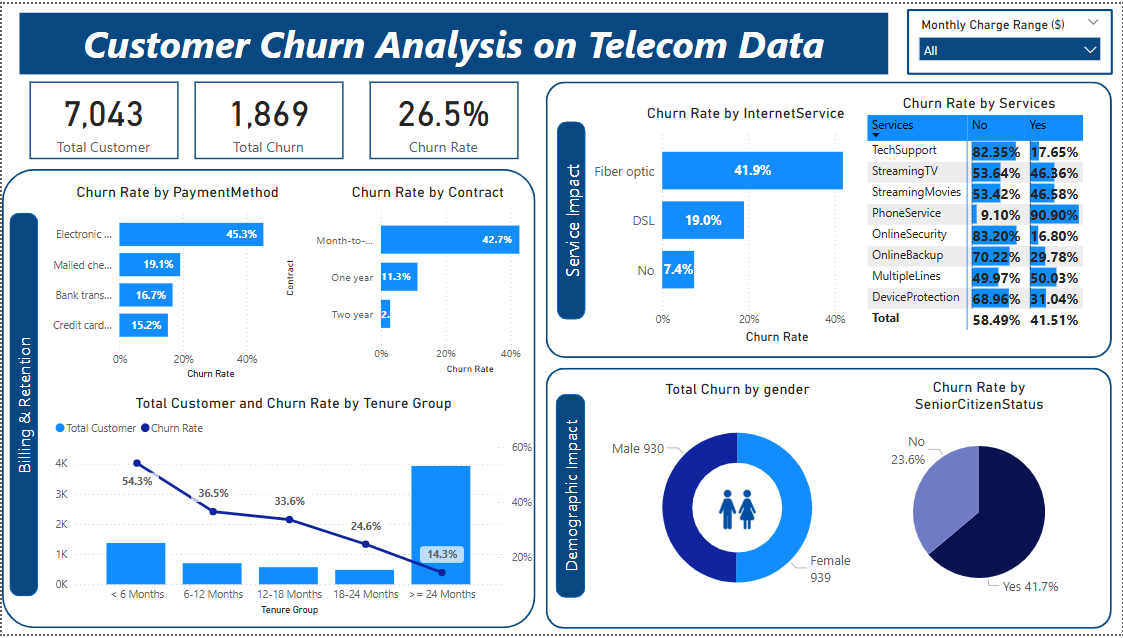

The dashboard page shown, as its layout file describes it:
{"tool":"powerbi","page":{"name":"Page 1","canvas":[1280,720],"ordinal":0},"visuals":[{"type":"shape","box":[621.2,88.8,647.5,316.2],"z":0},{"type":"shape","box":[0,188.8,610,525],"z":1000},{"type":"shape","box":[621.2,415,647.5,298.8],"z":2000},{"type":"card","fields":{"Values":["Tbl_Measure.Total Customer"]},"box":[31.2,88.8,170,88.8],"z":3000},{"type":"clusteredBarChart","fields":{"Category":["Churn data.PaymentMethod"],"Y":["Tbl_Measure.Churn Rate"]},"box":[41.2,203.8,318.8,230],"z":4000},{"type":"clusteredBarChart","fields":{"Y":["Tbl_Measure.Churn Rate"],"Category":["Churn data.Contract"]},"box":[318.8,203.8,336.2,223.8],"z":5000},{"type":"lineStackedColumnComboChart","fields":{"Y":["Tbl_Measure.Total Customer"],"Category":["Tenure_mapping.Tenure Group"],"Y2":["Tbl_Measure.Churn Rate"]},"box":[55,445,555,257.5],"z":6000},{"type":"pivotTable","title":"Churn Rate by Services","fields":{"Rows":["Service.Services"],"Columns":["Service.Status"],"Values":["Sum(Service.Churn Satus)"]},"box":[983.8,102.5,265,312.5],"z":7000},{"type":"clusteredBarChart","fields":{"Category":["Churn data.InternetService"],"Y":["Tbl_Measure.Churn Rate"]},"box":[666.2,113.8,368.8,278.8],"z":8000},{"type":"slicer","fields":{"Values":["Churn data.MonthlyChargeStatus"]},"box":[1033.8,5,235,75],"z":9000},{"type":"textbox","box":[20,10,992.5,70],"z":10000},{"type":"pieChart","fields":{"Category":["Churn data.SeniorCitizenStatus"],"Y":["Tbl_Measure.Churn Rate"]},"box":[983.8,427.5,265,268.8],"z":11000},{"type":"donutChart","fields":{"Category":["Churn data.gender"],"Y":["Tbl_Measure.Total Churn"]},"box":[685,430,312.5,272.5],"z":12000},{"type":"image","box":[810,548.8,61.2,58.8],"z":13000},{"type":"shape","box":[632.5,445,33.8,232.5],"z":14000},{"type":"shape","box":[8.8,238.8,32.5,438.8],"z":15000},{"type":"shape","box":[633.8,133.8,32.5,226.2],"z":16000},{"type":"card","fields":{"Values":["Tbl_Measure.Total Churn"]},"box":[220,88.8,170,88.8],"z":17000},{"type":"card","fields":{"Values":["Tbl_Measure.Churn Rate"]},"box":[420,88.8,170,88.8],"z":18000}]}

Visuals, with their boxes in screenshot pixels (x1, y1, x2, y2), scaled from the page's 1280x720 canvas onto the 1123x638 screenshot:
shape: (545, 79, 1113, 359)
shape: (0, 167, 535, 633)
shape: (545, 368, 1113, 633)
card - Tbl_Measure.Total Customer: (27, 79, 177, 157)
clusteredBarChart - Churn data.PaymentMethod x Tbl_Measure.Churn Rate: (36, 181, 316, 384)
clusteredBarChart - Tbl_Measure.Churn Rate x Churn data.Contract: (280, 181, 575, 379)
lineStackedColumnComboChart - Tbl_Measure.Total Customer x Tenure_mapping.Tenure Group: (48, 394, 535, 622)
"Churn Rate by Services" pivotTable: (863, 91, 1096, 368)
clusteredBarChart - Churn data.InternetService x Tbl_Measure.Churn Rate: (584, 101, 908, 348)
slicer - Churn data.MonthlyChargeStatus: (907, 4, 1113, 71)
textbox: (18, 9, 888, 71)
pieChart - Churn data.SeniorCitizenStatus x Tbl_Measure.Churn Rate: (863, 379, 1096, 617)
donutChart - Churn data.gender x Tbl_Measure.Total Churn: (601, 381, 875, 622)
image: (711, 486, 764, 538)
shape: (555, 394, 585, 600)
shape: (8, 212, 36, 600)
shape: (556, 119, 585, 319)
card - Tbl_Measure.Total Churn: (193, 79, 342, 157)
card - Tbl_Measure.Churn Rate: (368, 79, 518, 157)
